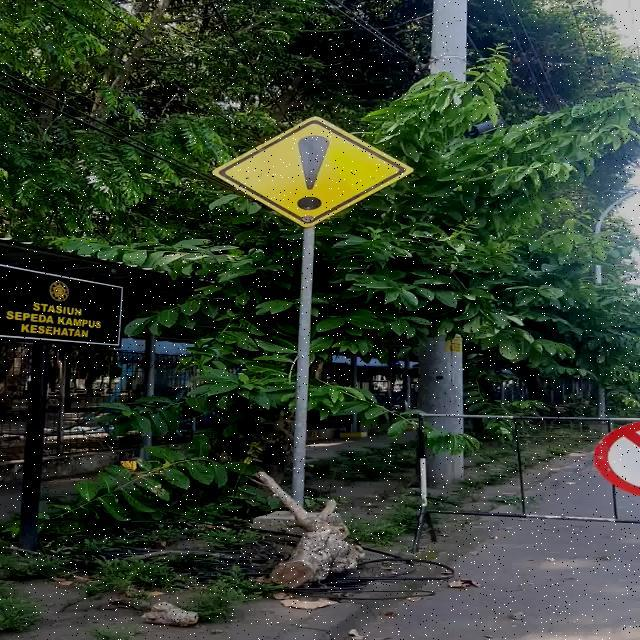Hati-Hati: (212, 116, 414, 228)
